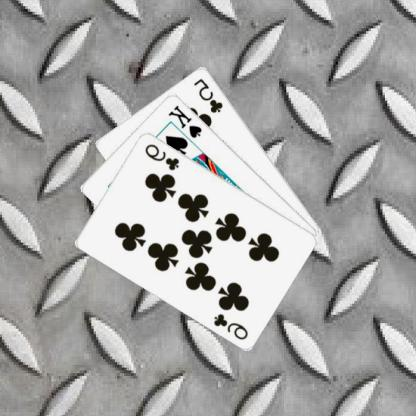5C: (192, 75, 226, 115)
9C: (212, 310, 252, 341), (144, 140, 182, 172)
KS: (167, 102, 205, 139)
